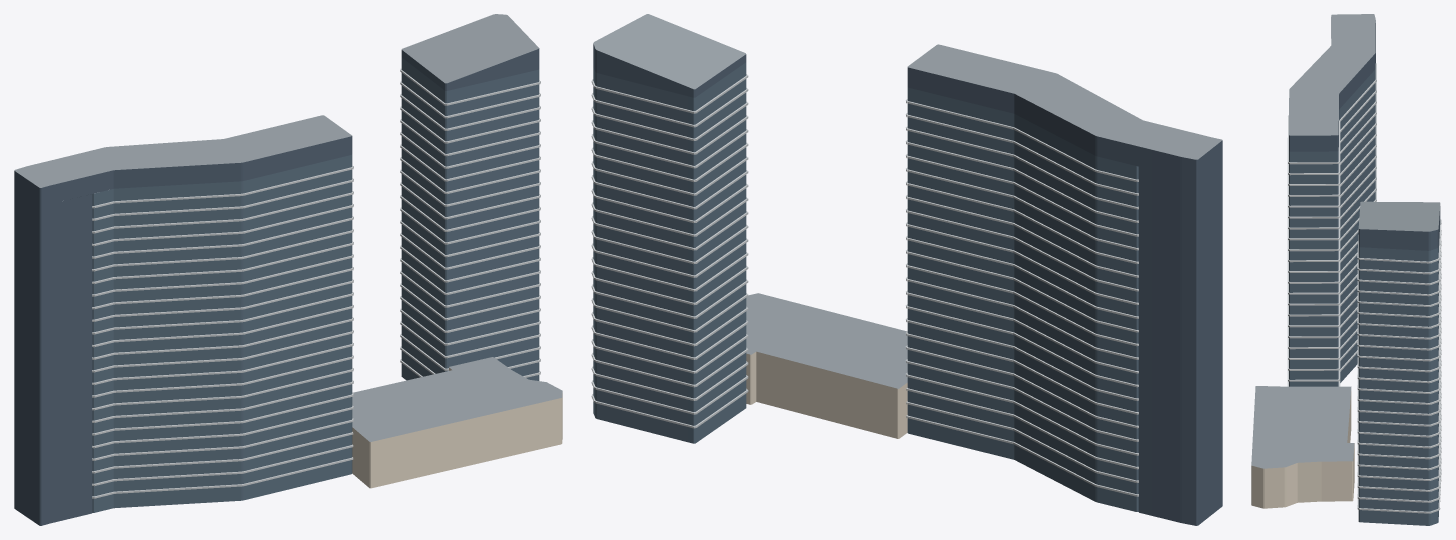
3 renders of one model, left to right at view 1: azimuth 30°, elevation 25°; view 2: azimuth 150°, elevation 25°; view 3: azimuth 270°, elevation 25°, orthographic. The views are drawn at different scales.
Visible parts, largest first — view 1: the-cosmopolitan-of-las-vegas; view 2: the-cosmopolitan-of-las-vegas; view 3: the-cosmopolitan-of-las-vegas.
Boxes of the visible parts, bbox=[...] form: the-cosmopolitan-of-las-vegas: bbox=[14, 14, 562, 525]; the-cosmopolitan-of-las-vegas: bbox=[591, 14, 1222, 525]; the-cosmopolitan-of-las-vegas: bbox=[1251, 14, 1441, 525].
Bounding box in the file's own units: 297 × 184 × 108.
